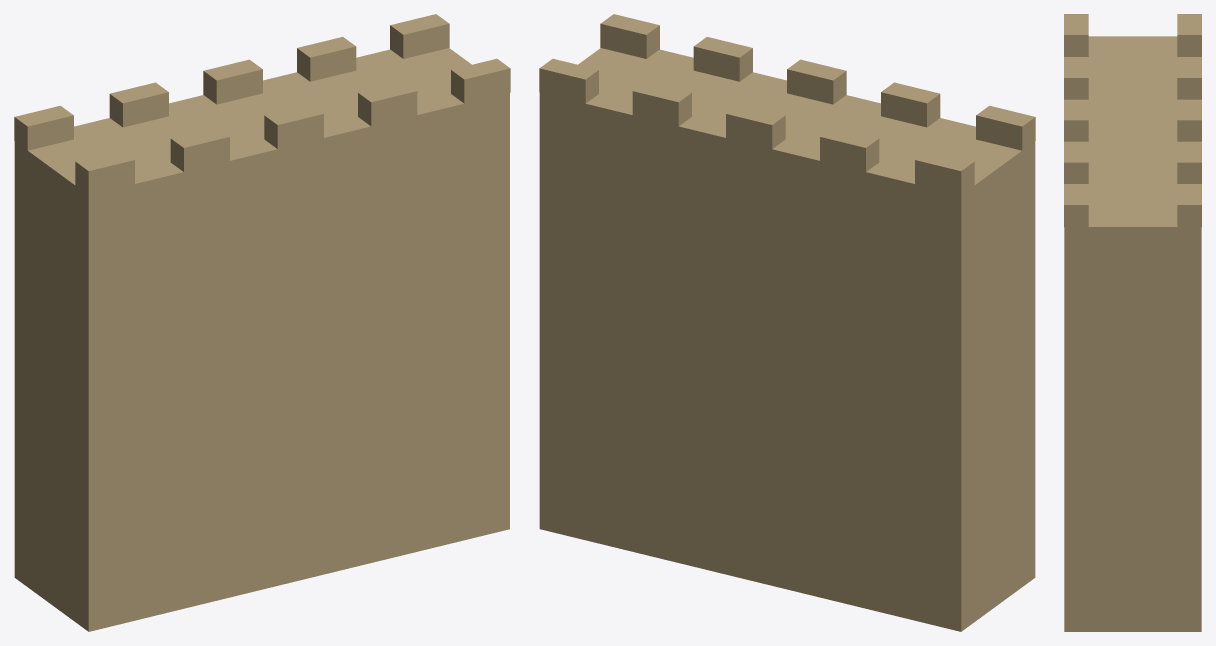
Rendered from jumper_wall_A.FBX.
3 renders of one model, left to right at view 1: azimuth 30°, elevation 25°; view 2: azimuth 150°, elevation 25°; view 3: azimuth 270°, elevation 25°, orthographic. The views are drawn at different scales.
Parts seen in each view (by area): view 1: wall_A (×11); view 2: wall_A (×11); view 3: wall_A (×11).
Boxes of the visible parts, x1=… form: wall_A (×11): x1=14, y1=14, x2=510, y2=631; wall_A (×11): x1=539, y1=14, x2=1035, y2=631; wall_A (×11): x1=1064, y1=14, x2=1201, y2=631.
Bounding box in the file's own units: 180 × 187 × 54.77.
